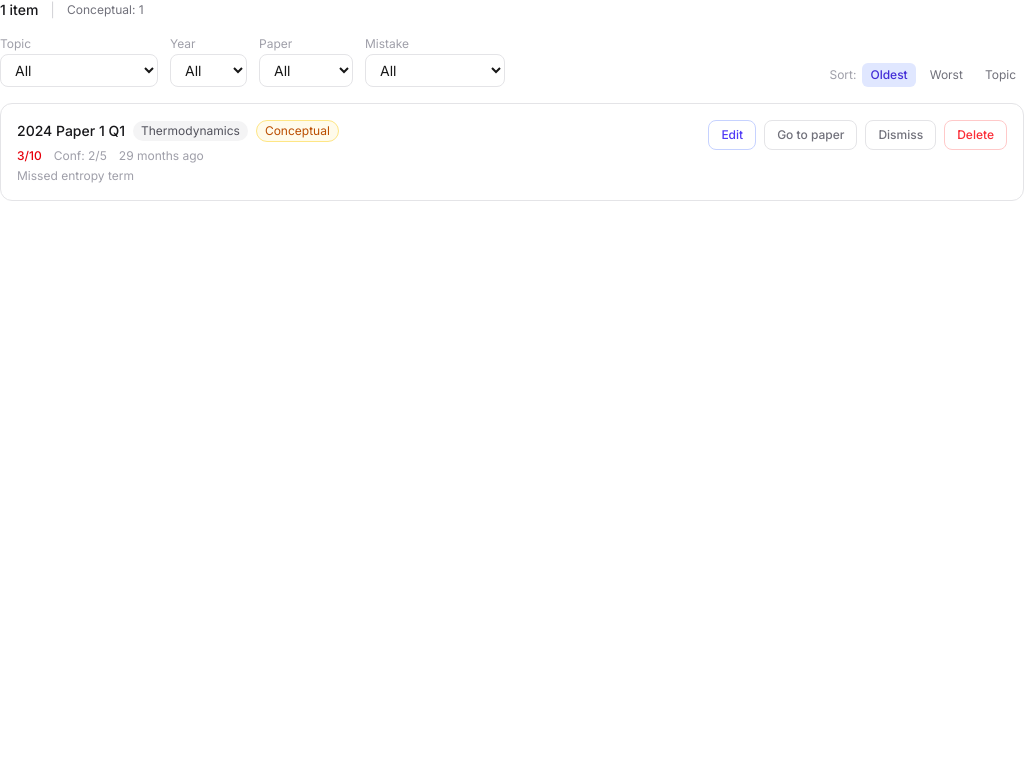
Test case: ReviewClient › Edit button opens modal with pre-filled data
Click the button "Edit" at point(732, 135), box [708,120,756,150]
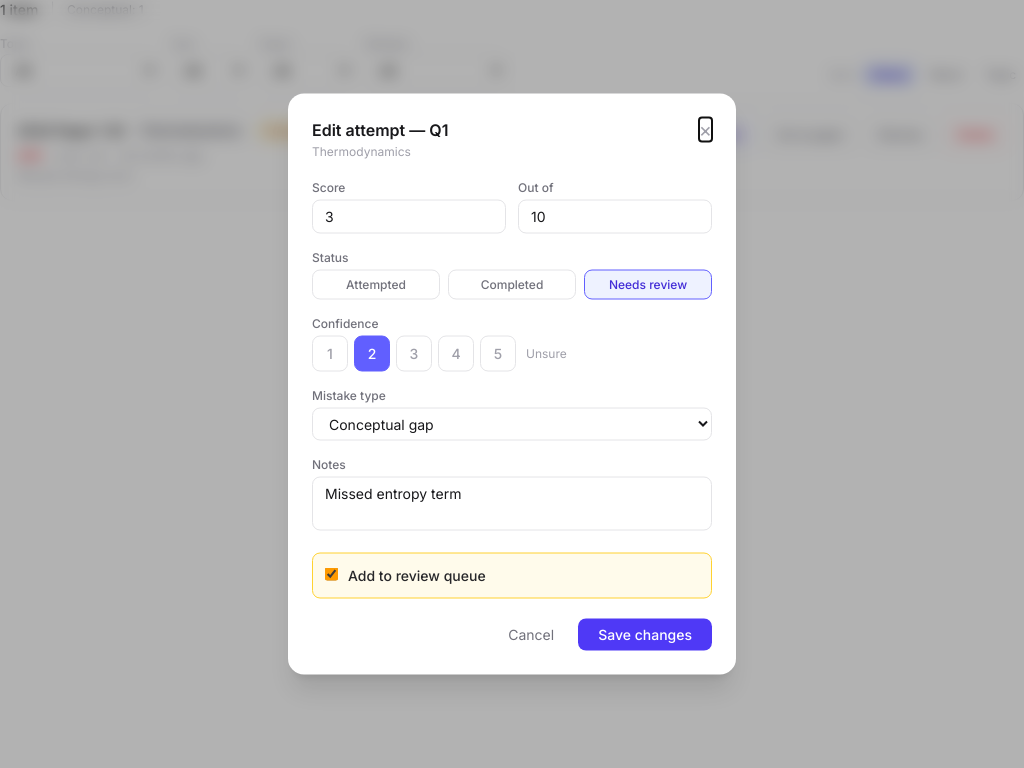
Result: the heading "Edit attempt — Q1" is shown at [312,118,448,142]
